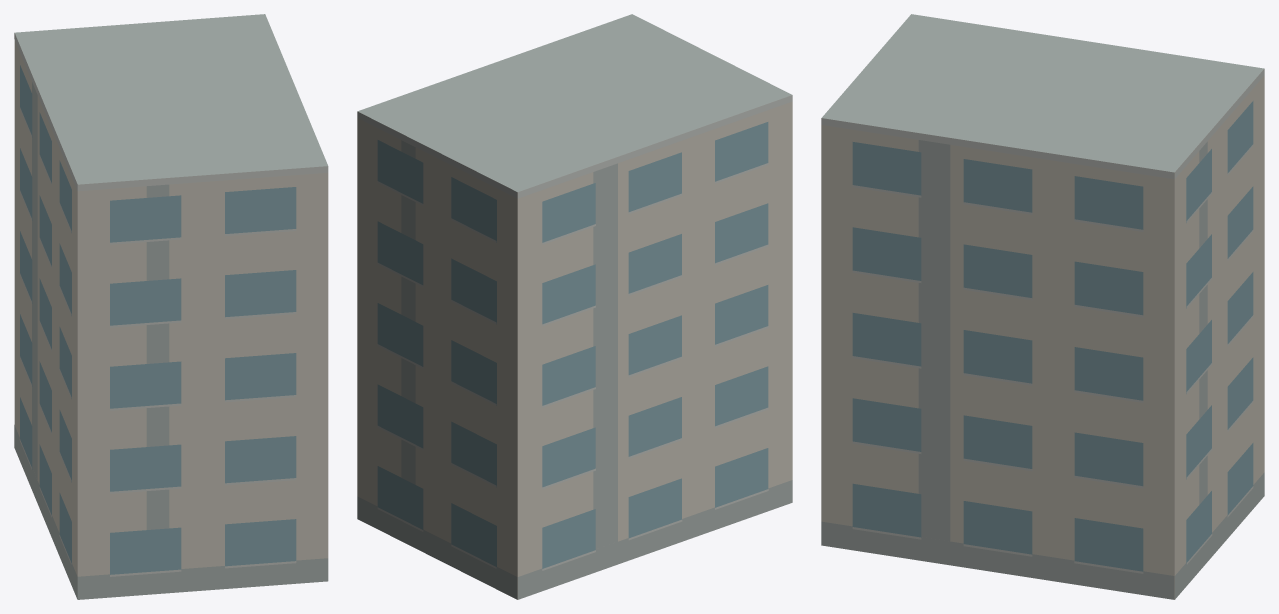
File: residential-0c3a52d2-d5b4-4f81-8272-6d3e56262b96.glb
The picture shows the model from 3 angles, left to right: view 1: azimuth 30°, elevation 25°; view 2: azimuth 150°, elevation 25°; view 3: azimuth 270°, elevation 25°; orthographic projection. The views are drawn at different scales.
Visible parts, largest first — view 1: residential-0c3a52d2-d5b4-4f81-8272-6d3e56262b96.tmp; view 2: residential-0c3a52d2-d5b4-4f81-8272-6d3e56262b96.tmp; view 3: residential-0c3a52d2-d5b4-4f81-8272-6d3e56262b96.tmp.
Part boxes in pixels (x1,y1,x2,y2): residential-0c3a52d2-d5b4-4f81-8272-6d3e56262b96.tmp: (14, 14, 328, 599); residential-0c3a52d2-d5b4-4f81-8272-6d3e56262b96.tmp: (357, 14, 792, 599); residential-0c3a52d2-d5b4-4f81-8272-6d3e56262b96.tmp: (821, 14, 1264, 599).
Size of the model in its own units: 12.14 by 15.25 by 14.34.
